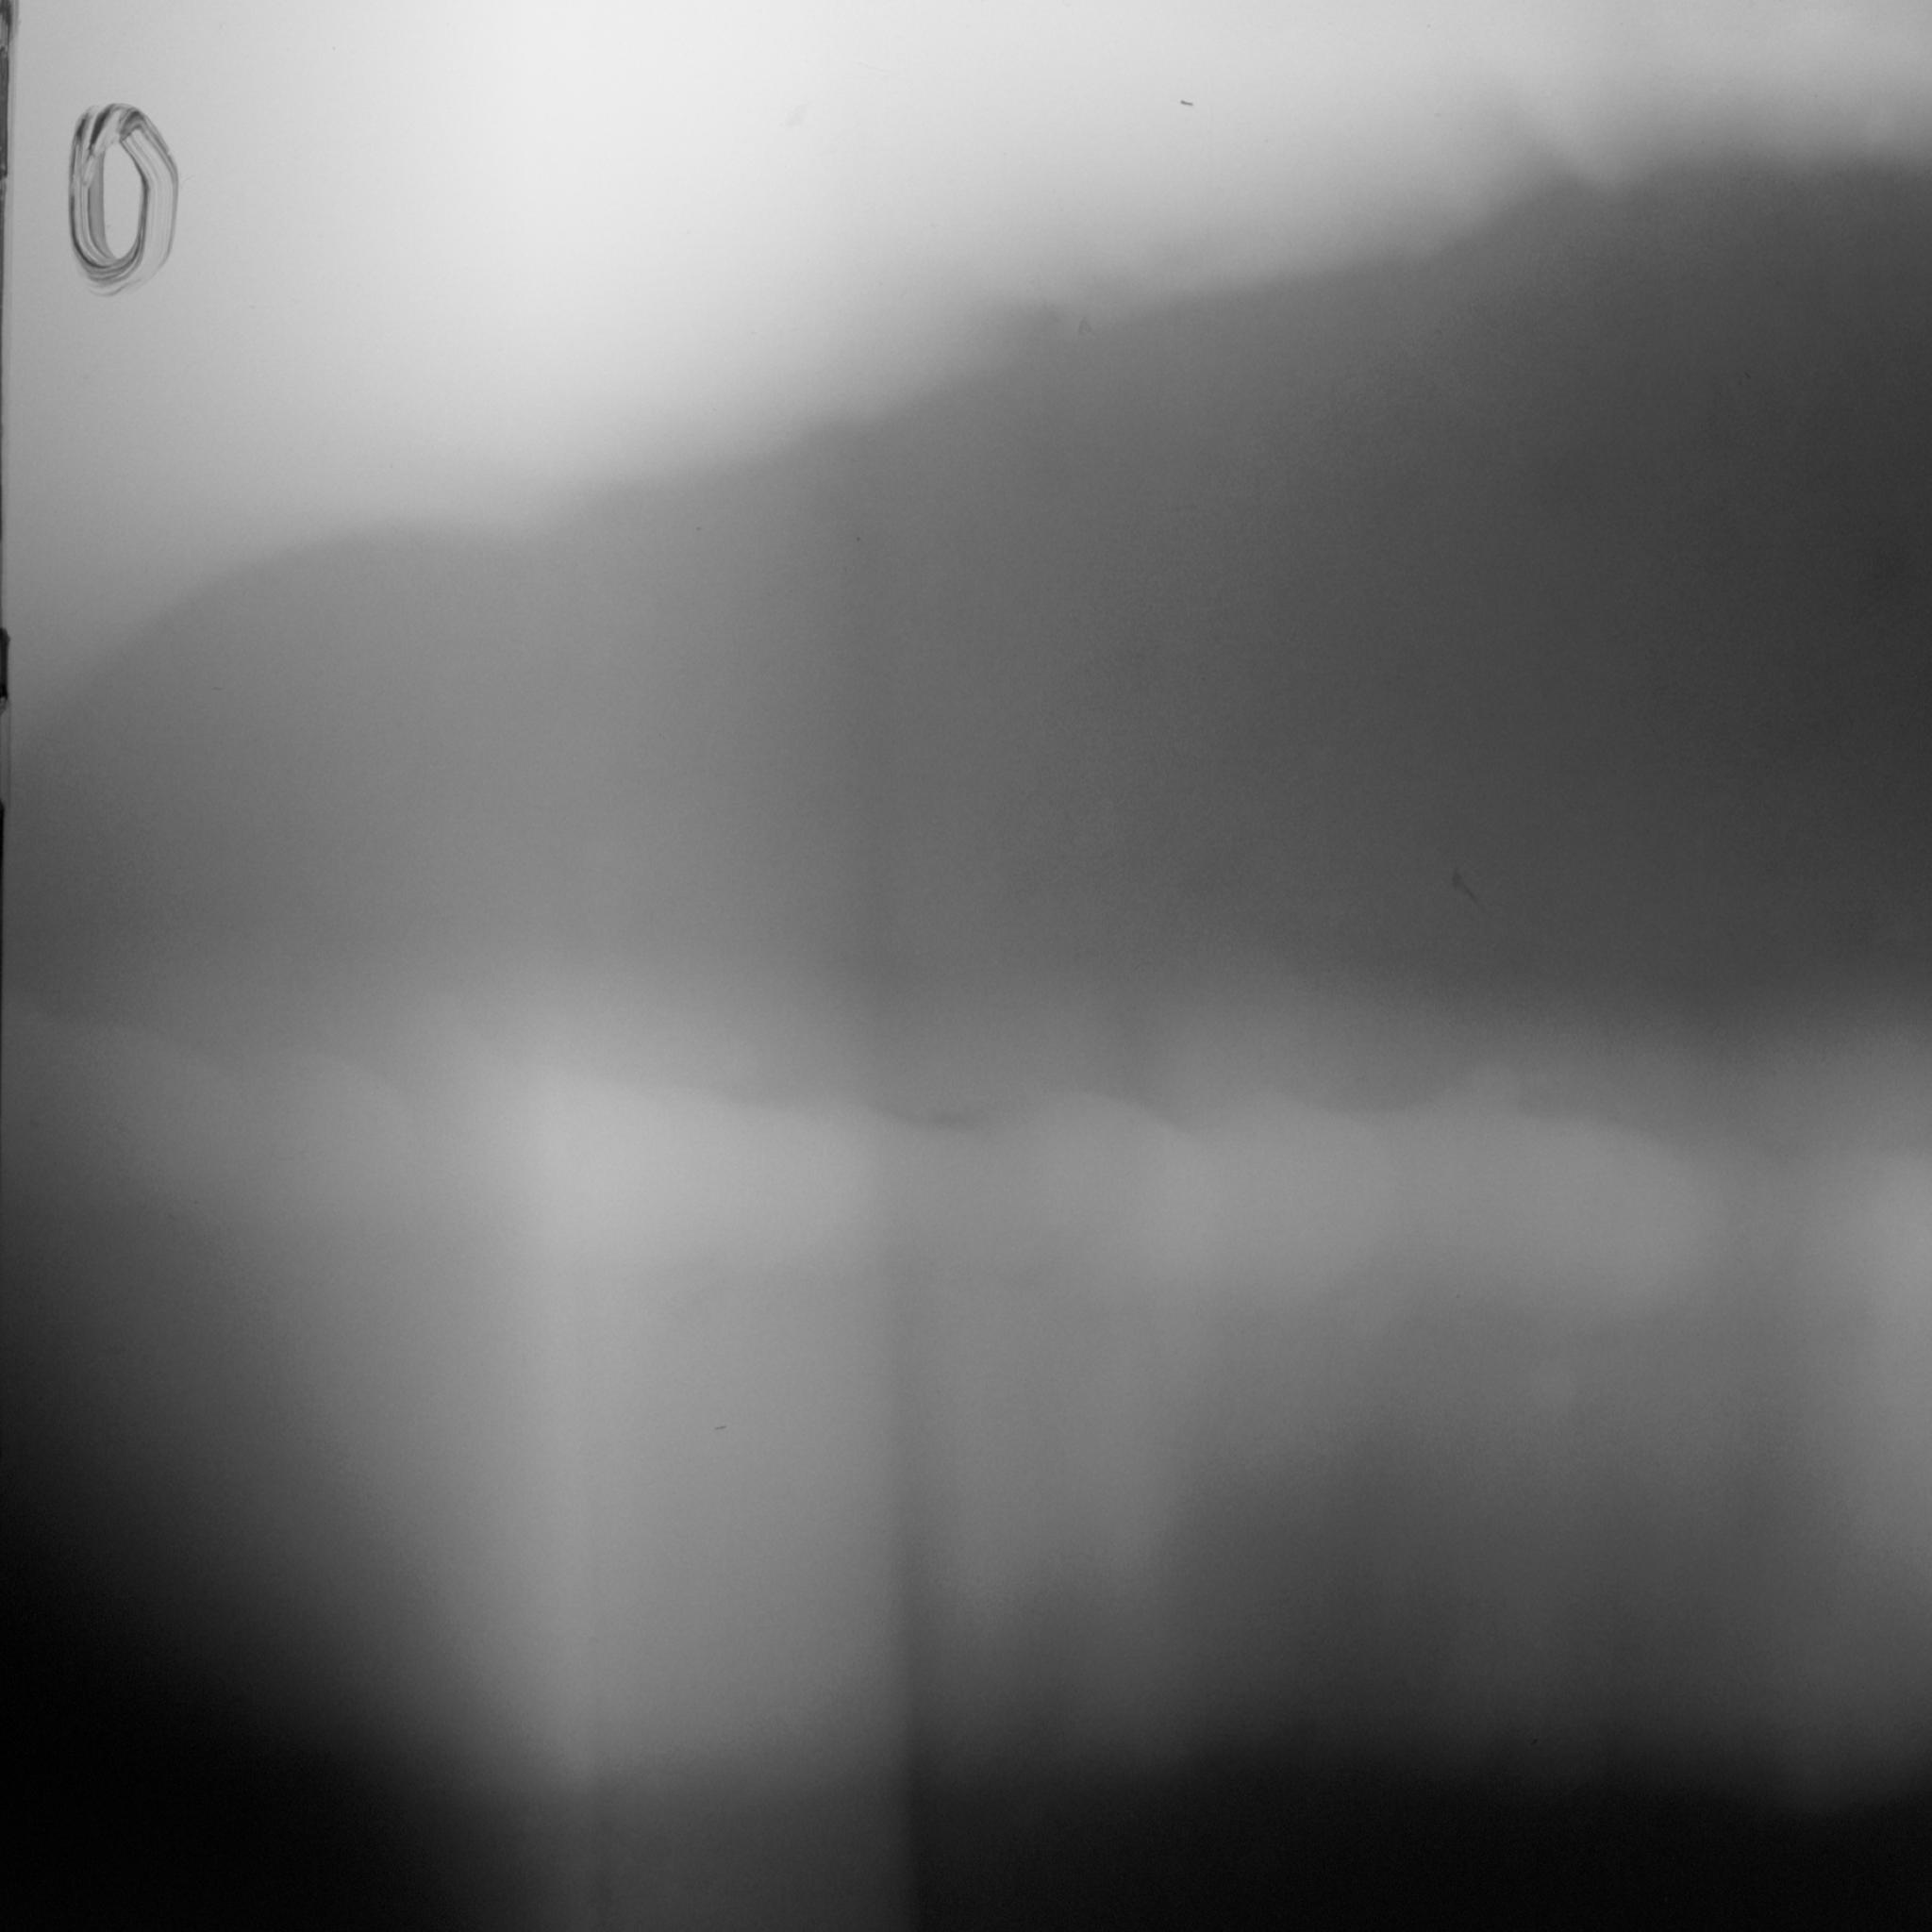PO: (1168, 90, 1210, 122)
